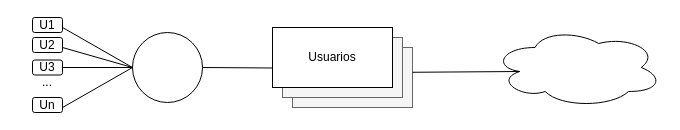
Some shapes in this 680 by 130 pixel diagram are drawn without their labels. Each missing label, with the centre of its shape:
"Balanceador de cargas" goes at (x=167, y=67).
"Resto del sistema" goes at (x=577, y=67).
